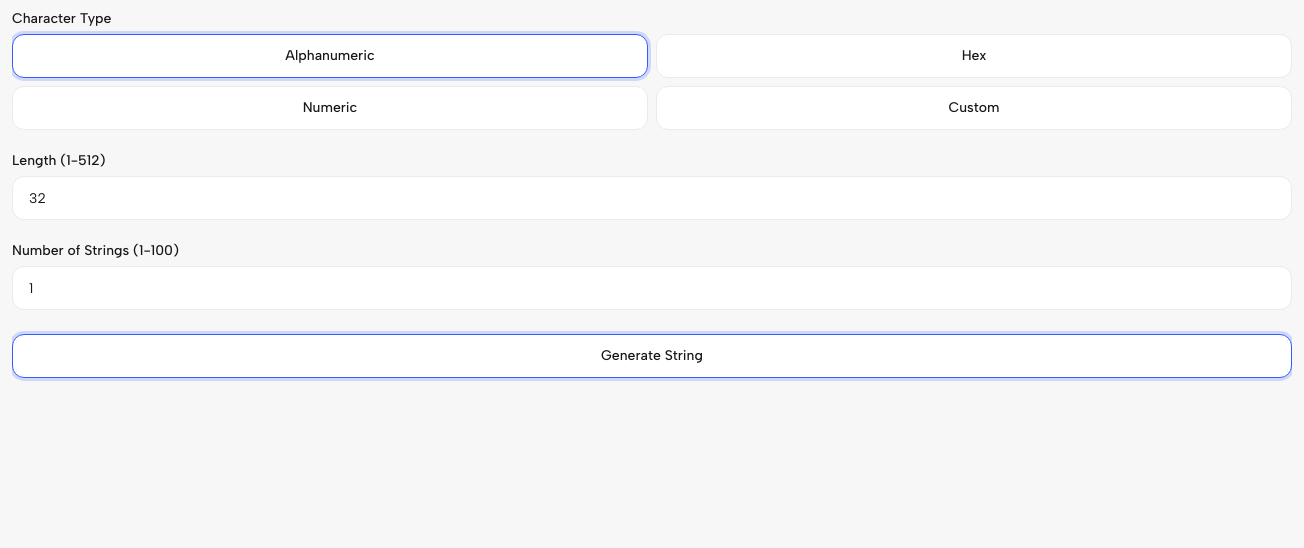
Test: RandomStringGeneratorTool › switches to custom character type and shows options
Click the button "Custom" at (974, 108), box [656,86,1292,130]
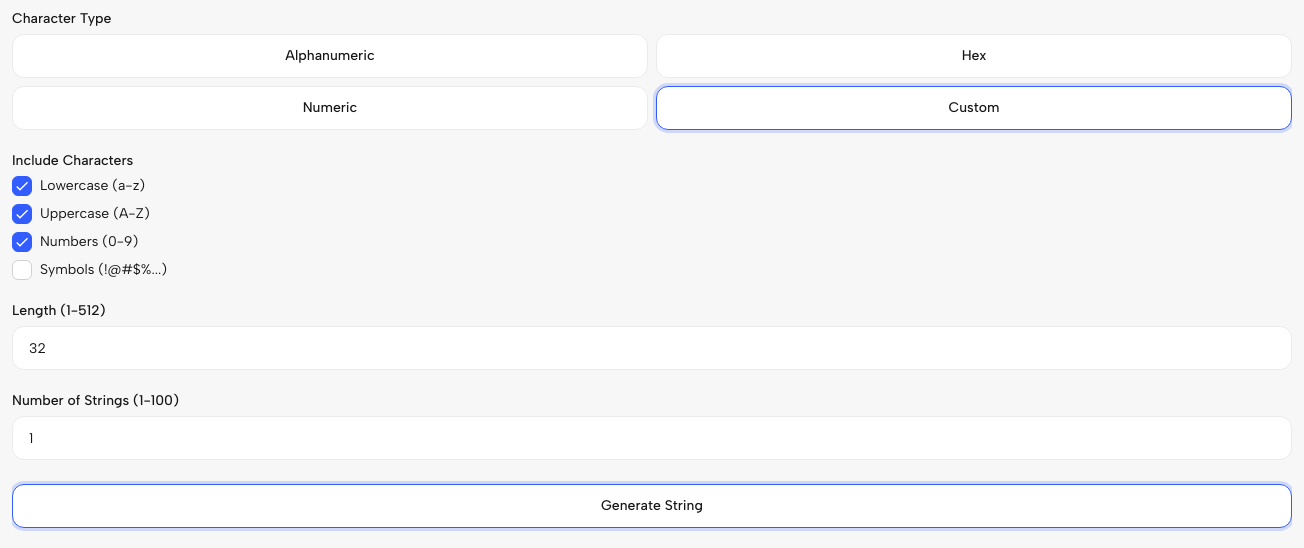
Expected: the text "Include Characters" is shown, [12,152,133,169]
